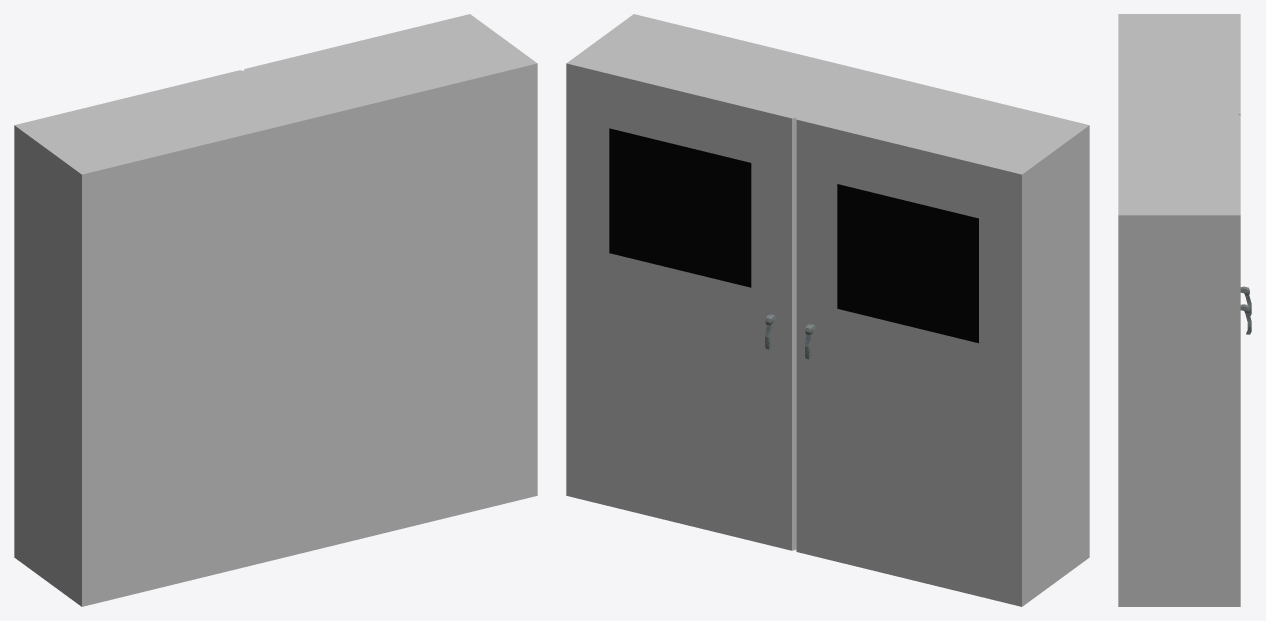
File: armario.FBX
3 renders of one model, left to right at view 1: azimuth 30°, elevation 25°; view 2: azimuth 150°, elevation 25°; view 3: azimuth 270°, elevation 25°, orthographic. The views are drawn at different scales.
Parts seen in each view (by area): view 1: armario; view 2: armario; view 3: armario.
Boxes of the visible parts, left/top/right/bottom form: armario: left=14, top=14, right=537, bottom=606; armario: left=566, top=14, right=1089, bottom=606; armario: left=1118, top=14, right=1251, bottom=606.
Bounding box in the file's own units: 59.34 × 53.79 × 16.59.
